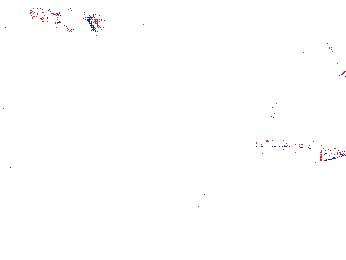X-ray fish: (318, 55, 346, 79), (265, 97, 280, 120)
glassfish: (228, 133, 345, 166)
red belly glassfish: (313, 91, 329, 100)
redtail glassfish: (1, 19, 64, 56), (20, 1, 95, 31), (272, 35, 335, 56)
